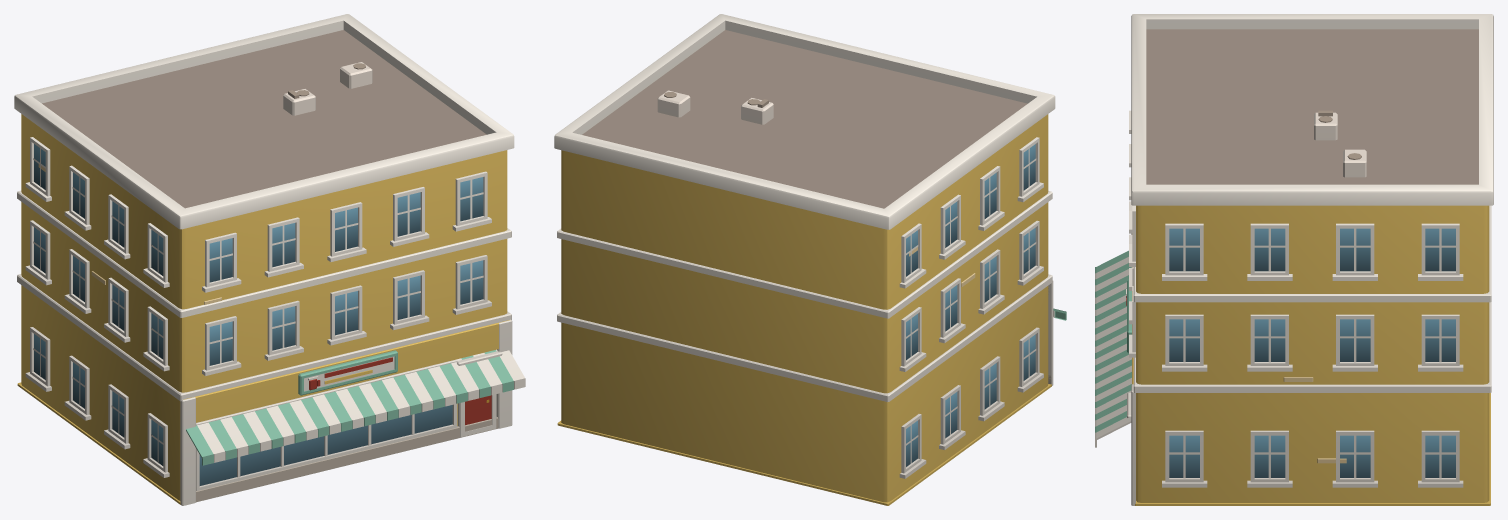
File: tremont_e5.glb
The picture shows the model from 3 angles, left to right: view 1: azimuth 30°, elevation 25°; view 2: azimuth 150°, elevation 25°; view 3: azimuth 270°, elevation 25°; orthographic projection. The views are drawn at different scales.
Visible parts, largest first — view 1: tremont_e5; view 2: tremont_e5; view 3: tremont_e5.
Part boxes in pixels (<box>): tremont_e5: <box>14,14,525,505</box>; tremont_e5: <box>554,14,1066,505</box>; tremont_e5: <box>1095,14,1493,505</box>.
Bounding box in the file's own units: 14.48 × 12.19 × 13.55.
Materials: 1 (1 with a texture image).
